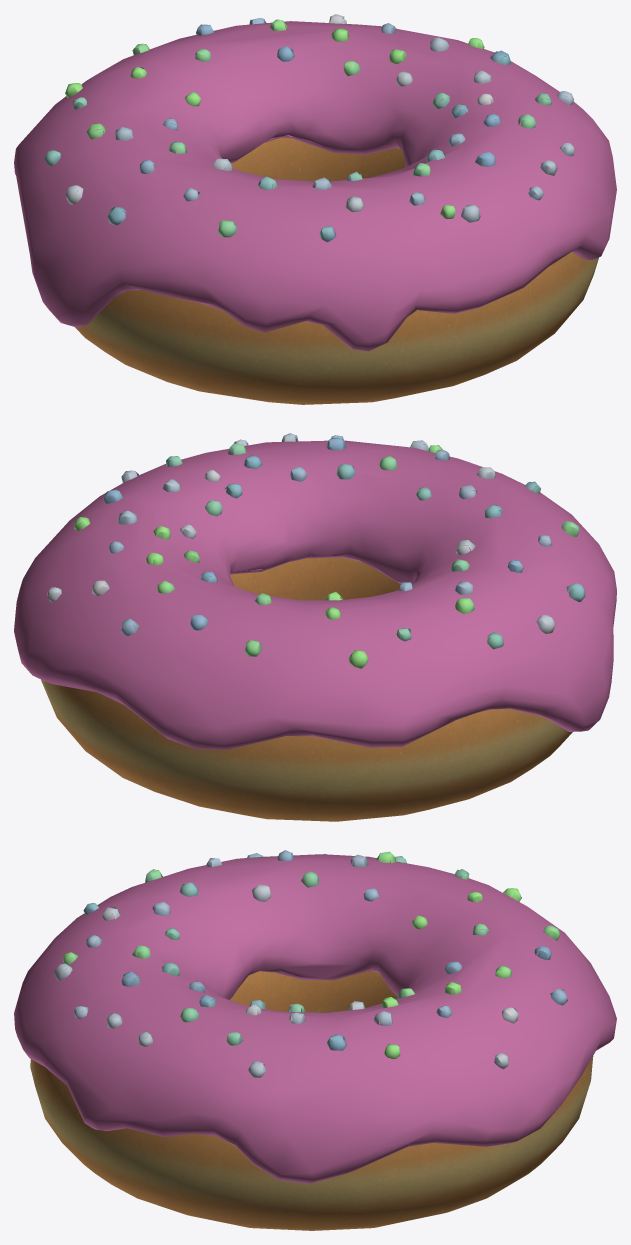
Rendered from donut6.glb.
The picture shows the model from 3 angles, top to bottom: view 1: azimuth 30°, elevation 25°; view 2: azimuth 150°, elevation 25°; view 3: azimuth 270°, elevation 25°; orthographic projection.
Parts seen in each view (by area): view 1: Donut6; view 2: Donut6; view 3: Donut6.
Boxes of the visible parts, <box> form: Donut6: <box>14,14,616,404</box>; Donut6: <box>14,433,616,821</box>; Donut6: <box>14,850,616,1230</box>.
Bounding box in the file's own units: 2.32 × 0.8705 × 2.29.
Materials: 2 (2 with a texture image).
